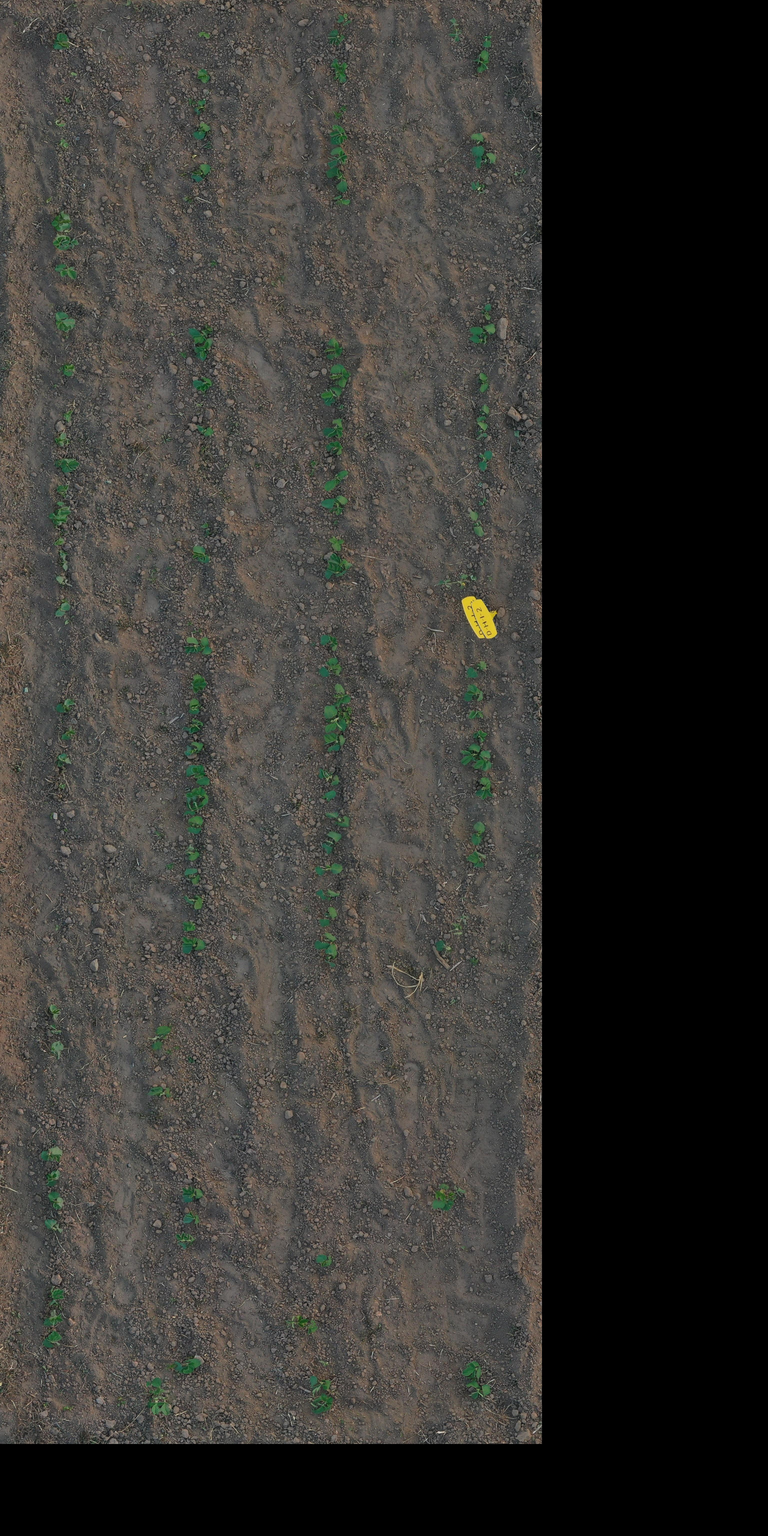s: (323, 704, 347, 734), (285, 1314, 318, 1335), (148, 1024, 174, 1050), (325, 166, 348, 194), (432, 1183, 454, 1211), (314, 932, 338, 957), (320, 495, 349, 515), (434, 573, 468, 590), (328, 364, 351, 388), (309, 1375, 332, 1399), (324, 470, 349, 492), (185, 764, 210, 786), (310, 1392, 334, 1414), (465, 1380, 491, 1400), (51, 210, 73, 232), (326, 147, 348, 169), (448, 913, 470, 935), (324, 559, 347, 580), (460, 743, 481, 766), (48, 506, 72, 526), (318, 658, 342, 678), (322, 831, 342, 855), (52, 233, 80, 250), (323, 338, 344, 360), (323, 732, 345, 753), (333, 683, 351, 708), (181, 936, 206, 954), (174, 1358, 202, 1374), (55, 311, 76, 332), (320, 386, 342, 406), (322, 418, 344, 438), (472, 750, 492, 772), (475, 777, 494, 800), (330, 58, 347, 83), (318, 906, 338, 927), (465, 660, 487, 679), (329, 553, 353, 570), (185, 786, 209, 803), (325, 812, 350, 828), (188, 674, 207, 695), (329, 124, 347, 146), (474, 152, 496, 170), (463, 684, 485, 702), (318, 768, 340, 786), (181, 1185, 203, 1203), (472, 50, 489, 73), (40, 1146, 63, 1163), (188, 328, 212, 344), (190, 164, 210, 183), (461, 1361, 482, 1379), (314, 863, 343, 876), (447, 17, 462, 42), (55, 458, 80, 473), (469, 512, 484, 537), (54, 264, 77, 280), (183, 636, 202, 655), (52, 32, 72, 50), (182, 718, 204, 734), (469, 323, 496, 336), (471, 821, 485, 846), (319, 634, 338, 652), (43, 1330, 62, 1348), (471, 132, 484, 158), (55, 698, 76, 714), (43, 1310, 64, 1326), (478, 450, 493, 472), (315, 888, 340, 901), (192, 545, 210, 563), (466, 850, 484, 868), (147, 1397, 165, 1415), (194, 341, 209, 362), (182, 895, 203, 910), (146, 1086, 172, 1098), (193, 123, 211, 140), (187, 816, 203, 835), (48, 1191, 64, 1210), (44, 1218, 63, 1234), (192, 377, 212, 392), (183, 741, 203, 756), (49, 1286, 64, 1306), (183, 801, 204, 815), (328, 29, 345, 46), (325, 440, 343, 456), (184, 844, 200, 862), (45, 1169, 61, 1187), (50, 1040, 64, 1060), (184, 868, 200, 885), (476, 404, 490, 423), (182, 1210, 201, 1224), (477, 372, 490, 392), (328, 536, 344, 552), (54, 431, 71, 446), (188, 698, 203, 715), (55, 602, 71, 617), (56, 753, 72, 768), (315, 1254, 332, 1268), (476, 422, 489, 440), (175, 1232, 188, 1250), (59, 363, 75, 377), (200, 637, 212, 655), (434, 940, 452, 952), (196, 69, 210, 84), (61, 726, 76, 740), (336, 13, 352, 26), (472, 730, 488, 743), (56, 576, 73, 588), (468, 335, 488, 345), (332, 194, 350, 205), (196, 425, 214, 436), (471, 181, 486, 194), (56, 484, 69, 499), (194, 100, 206, 116), (49, 1004, 61, 1020), (321, 790, 336, 802), (480, 304, 491, 320), (182, 921, 196, 933), (59, 554, 68, 572), (468, 709, 484, 719), (324, 955, 336, 968), (184, 1233, 196, 1246), (482, 34, 493, 48), (62, 410, 73, 423), (50, 1024, 62, 1035), (59, 139, 69, 149), (198, 32, 210, 40), (54, 538, 65, 546), (58, 549, 69, 556), (478, 497, 486, 506), (58, 782, 66, 790), (64, 97, 71, 104)
